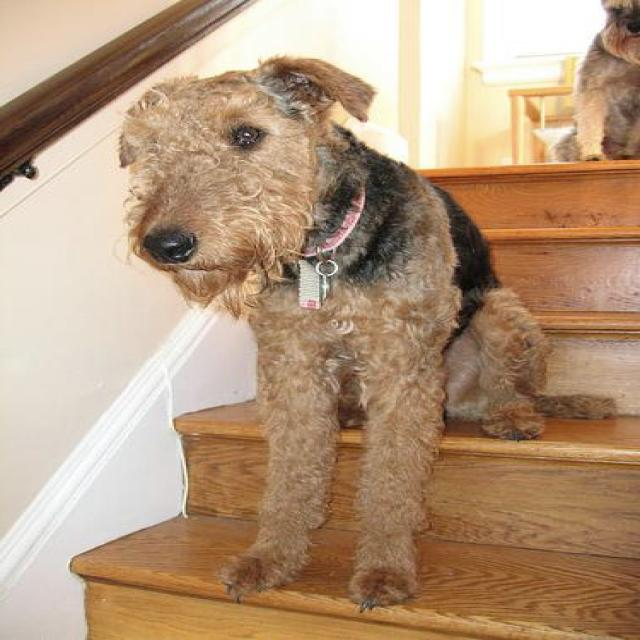airedale: (110, 51, 626, 614)
